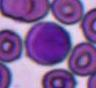L: (25, 21, 72, 65)
